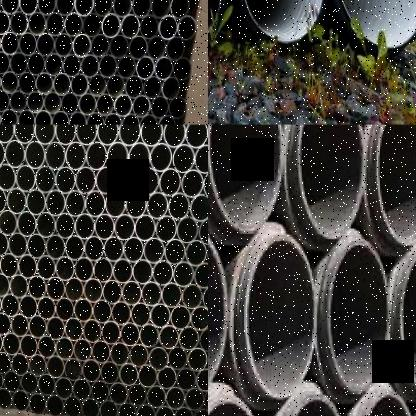pipe: (236, 229, 318, 401), (326, 239, 397, 399), (290, 124, 366, 239), (208, 124, 284, 234), (371, 124, 416, 246), (330, 0, 416, 49), (208, 221, 231, 400), (236, 0, 324, 44), (392, 246, 416, 398), (208, 387, 266, 416), (280, 392, 349, 416), (356, 390, 416, 416), (172, 143, 195, 173), (137, 166, 160, 196), (128, 142, 150, 172), (150, 142, 172, 172), (181, 168, 203, 198), (167, 192, 190, 220), (176, 216, 199, 244), (159, 167, 181, 196), (107, 141, 128, 171), (86, 140, 107, 170), (143, 236, 165, 264), (95, 166, 117, 194), (146, 192, 168, 220), (125, 190, 147, 218), (65, 141, 86, 170), (35, 165, 56, 194), (75, 165, 96, 194), (185, 239, 207, 266), (134, 214, 156, 241), (25, 188, 46, 216), (74, 212, 95, 240), (55, 166, 76, 194), (105, 190, 126, 218), (15, 164, 36, 192), (116, 166, 137, 194), (25, 140, 45, 169), (45, 141, 65, 170), (5, 139, 25, 168), (123, 235, 144, 262), (156, 215, 177, 242), (114, 213, 135, 240), (85, 190, 105, 218), (84, 234, 104, 262), (65, 190, 85, 218), (178, 326, 200, 351), (181, 284, 203, 309), (164, 239, 185, 265), (152, 260, 173, 286), (45, 190, 66, 216), (130, 301, 151, 327), (121, 280, 142, 306), (161, 282, 182, 308), (112, 258, 133, 284), (173, 261, 194, 287), (189, 194, 208, 222), (185, 125, 208, 148), (169, 305, 191, 329), (141, 281, 162, 306), (94, 214, 115, 239), (139, 323, 160, 348), (158, 14, 178, 40), (55, 255, 75, 281), (159, 324, 179, 350), (55, 212, 75, 238), (132, 259, 152, 285), (7, 187, 26, 214), (163, 125, 185, 148), (128, 343, 149, 367), (82, 12, 102, 37), (101, 13, 121, 38), (177, 15, 197, 40), (109, 34, 129, 59), (128, 35, 148, 60), (165, 36, 185, 61), (135, 55, 155, 80), (17, 211, 37, 236), (27, 275, 47, 300), (82, 318, 102, 343), (91, 339, 111, 364), (93, 258, 113, 283), (74, 257, 94, 282), (83, 278, 103, 303), (64, 277, 84, 302), (92, 299, 112, 324), (45, 234, 65, 259), (150, 303, 170, 328), (104, 236, 124, 261), (81, 358, 101, 383), (187, 347, 207, 372), (140, 14, 159, 40), (0, 252, 19, 278), (140, 125, 163, 146), (90, 34, 110, 58), (98, 54, 118, 78), (36, 255, 56, 279), (165, 386, 185, 410), (111, 301, 131, 325), (148, 346, 168, 370), (102, 280, 122, 304), (157, 366, 177, 390), (63, 357, 83, 381), (127, 383, 147, 407), (176, 367, 196, 391), (73, 298, 93, 322), (137, 364, 157, 388), (64, 12, 83, 37), (121, 14, 140, 39), (36, 32, 55, 57), (173, 56, 192, 81), (143, 75, 162, 100), (9, 274, 28, 299), (19, 294, 38, 319), (46, 276, 65, 301), (101, 320, 120, 345), (27, 233, 46, 258), (110, 341, 129, 366), (65, 235, 84, 260), (8, 232, 27, 257), (64, 317, 83, 342), (168, 346, 187, 371), (36, 212, 55, 237), (10, 10, 28, 36), (46, 11, 64, 37), (0, 209, 18, 235), (118, 363, 138, 386), (146, 385, 166, 408), (1, 31, 20, 55), (54, 33, 73, 57), (147, 36, 166, 60), (117, 55, 136, 79), (154, 56, 173, 80), (18, 71, 37, 95), (88, 73, 107, 97), (78, 92, 97, 116), (150, 95, 169, 119), (37, 373, 56, 397), (18, 254, 37, 278), (2, 332, 21, 356), (37, 296, 56, 320), (73, 338, 92, 362), (37, 335, 56, 359), (28, 315, 47, 339), (189, 306, 208, 330), (55, 297, 74, 321), (46, 316, 65, 340), (100, 360, 119, 384), (185, 387, 204, 411), (120, 322, 139, 346), (55, 336, 74, 360), (28, 11, 46, 36), (73, 33, 91, 58), (45, 52, 63, 77), (107, 73, 125, 98), (75, 125, 97, 145), (118, 125, 140, 145), (96, 125, 118, 145), (90, 380, 110, 402), (9, 52, 28, 75), (35, 72, 54, 95), (70, 73, 89, 96), (43, 91, 62, 114), (45, 393, 64, 416), (1, 294, 20, 317), (10, 314, 29, 337), (109, 382, 128, 405), (19, 32, 37, 56), (27, 52, 45, 76), (63, 53, 81, 77), (81, 54, 99, 78), (53, 72, 71, 96), (162, 76, 180, 100), (61, 91, 79, 115), (114, 93, 132, 117), (132, 94, 150, 118), (11, 352, 29, 376), (46, 355, 64, 379), (55, 125, 76, 145), (0, 162, 15, 190), (194, 143, 208, 173), (20, 372, 39, 394), (28, 354, 47, 376), (1, 71, 19, 94), (125, 75, 143, 98), (9, 90, 27, 113), (96, 93, 114, 116), (168, 96, 186, 119), (55, 376, 73, 399), (20, 334, 38, 357), (29, 391, 46, 415), (34, 125, 55, 144), (3, 370, 21, 392), (73, 378, 91, 400), (12, 389, 29, 412), (170, 0, 189, 20), (63, 395, 81, 416), (13, 125, 34, 143), (193, 263, 208, 288), (27, 91, 44, 113), (81, 397, 100, 416), (112, 0, 132, 18), (150, 0, 170, 18), (132, 0, 151, 18), (98, 399, 117, 416), (92, 0, 112, 16), (1, 108, 18, 125), (117, 400, 135, 416), (19, 0, 38, 15), (55, 0, 74, 15), (198, 217, 208, 245), (135, 402, 155, 416), (196, 368, 208, 391), (18, 109, 35, 125), (34, 109, 51, 125), (37, 0, 55, 15), (74, 0, 92, 15), (51, 110, 69, 125), (85, 111, 104, 125), (0, 124, 14, 143), (1, 0, 19, 14), (68, 111, 86, 125), (0, 351, 11, 373), (0, 10, 10, 34), (198, 328, 208, 352), (103, 112, 121, 125), (0, 387, 11, 408), (139, 113, 158, 125), (154, 404, 173, 416), (0, 271, 9, 296), (122, 112, 139, 125), (0, 312, 10, 334), (0, 50, 9, 74), (0, 88, 9, 112), (174, 405, 192, 416), (0, 231, 8, 255), (158, 114, 175, 125), (0, 185, 6, 213), (202, 285, 208, 311), (203, 169, 208, 198), (203, 387, 208, 412), (193, 408, 208, 416), (0, 138, 4, 167), (0, 369, 3, 390)
